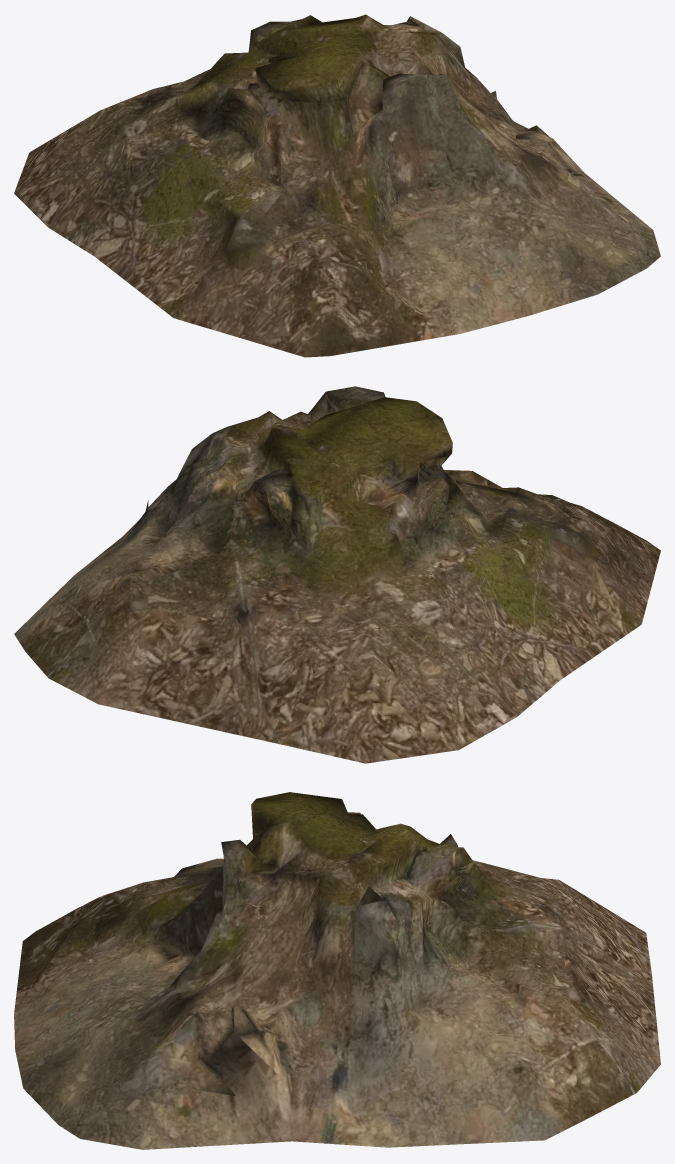
File: stump.glb
3 views of the same model, one above another, from view 1: azimuth 30°, elevation 25°; view 2: azimuth 150°, elevation 25°; view 3: azimuth 270°, elevation 25° (orthographic). The views are drawn at different scales.
Parts seen in each view (by area): view 1: tree_stump_01; view 2: tree_stump_01; view 3: tree_stump_01.
Part boxes in pixels (bbox=[...]): tree_stump_01: bbox=[14, 14, 660, 357]; tree_stump_01: bbox=[14, 386, 660, 763]; tree_stump_01: bbox=[14, 792, 660, 1149].
Size of the model in its own units: 1.42 by 0.5621 by 1.59.
Materials: 1 (1 with a texture image).
